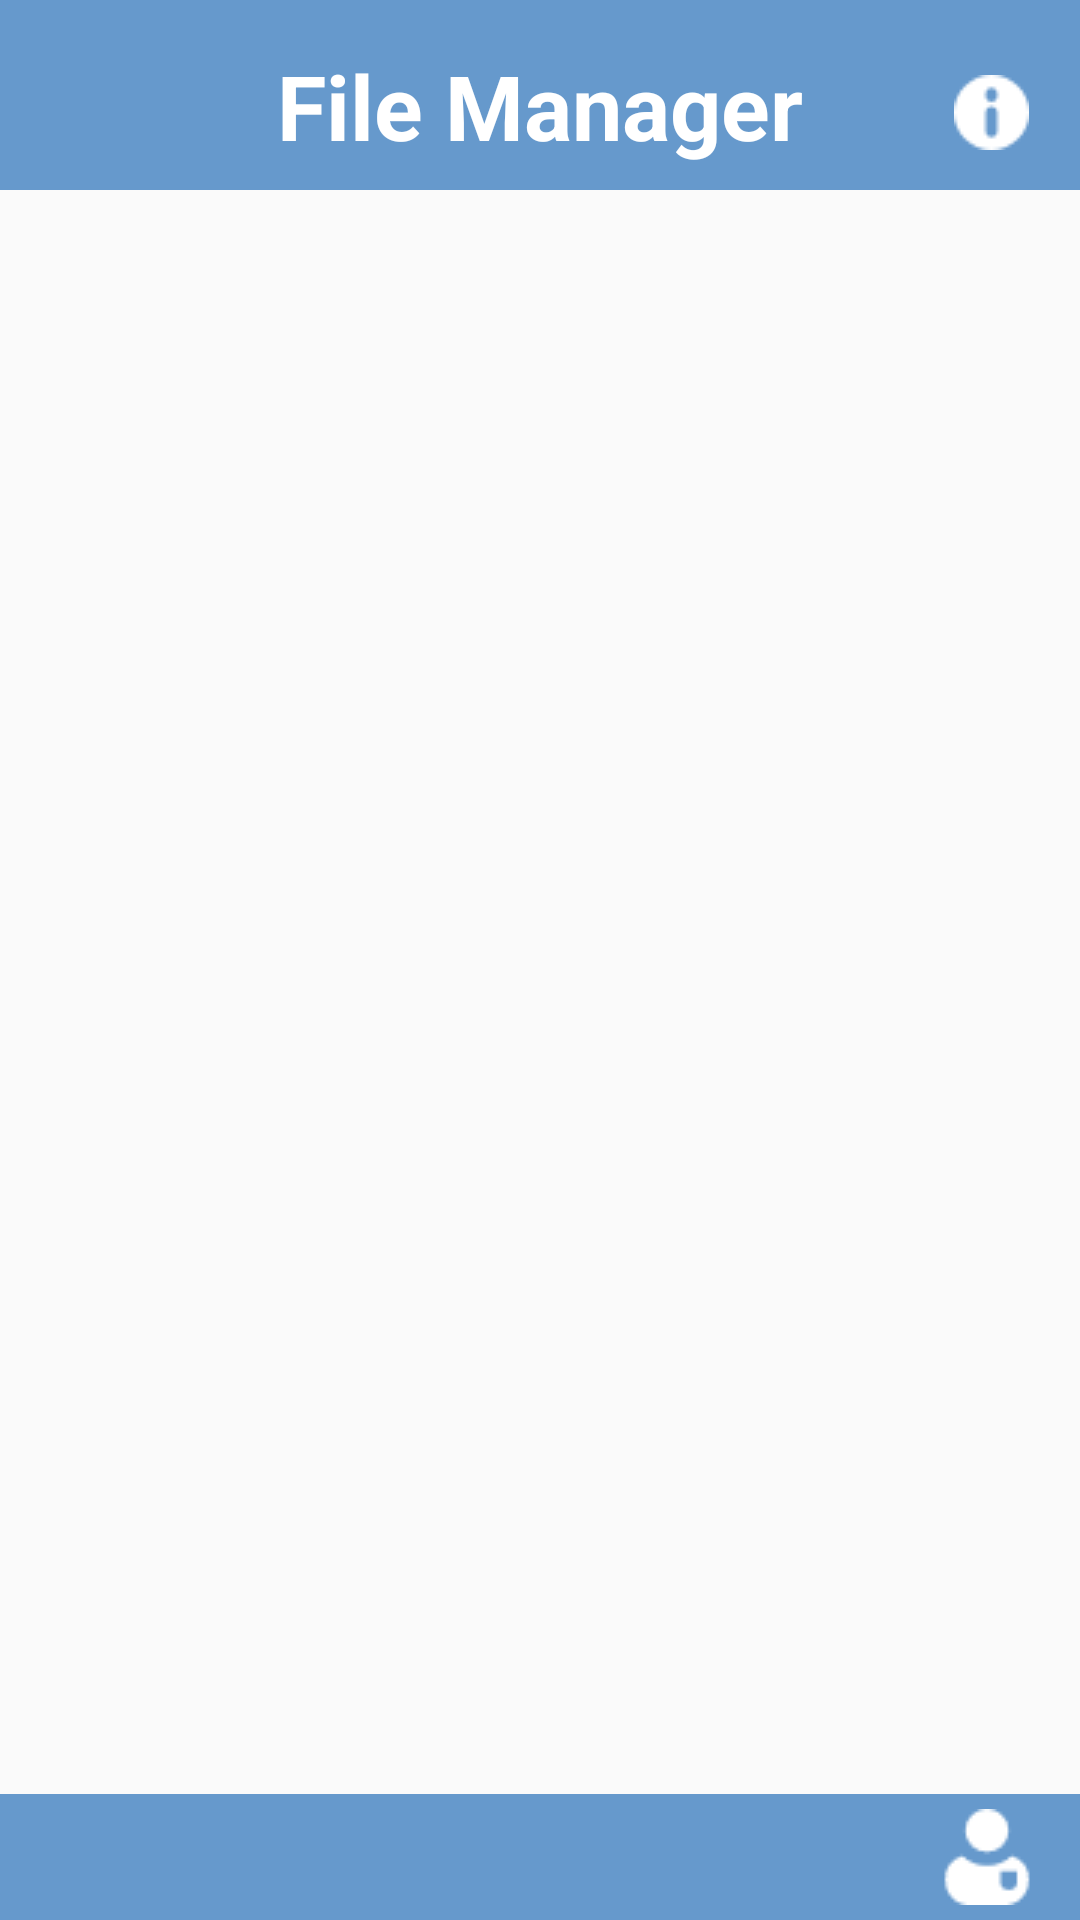

Locate icon controls on the screen. Image size 1080 x 1920, boxes as {"left": x1, "top": y1, "right": x2, "bottom": y2}.
info: {"left": 954, "top": 75, "right": 1029, "bottom": 150}
